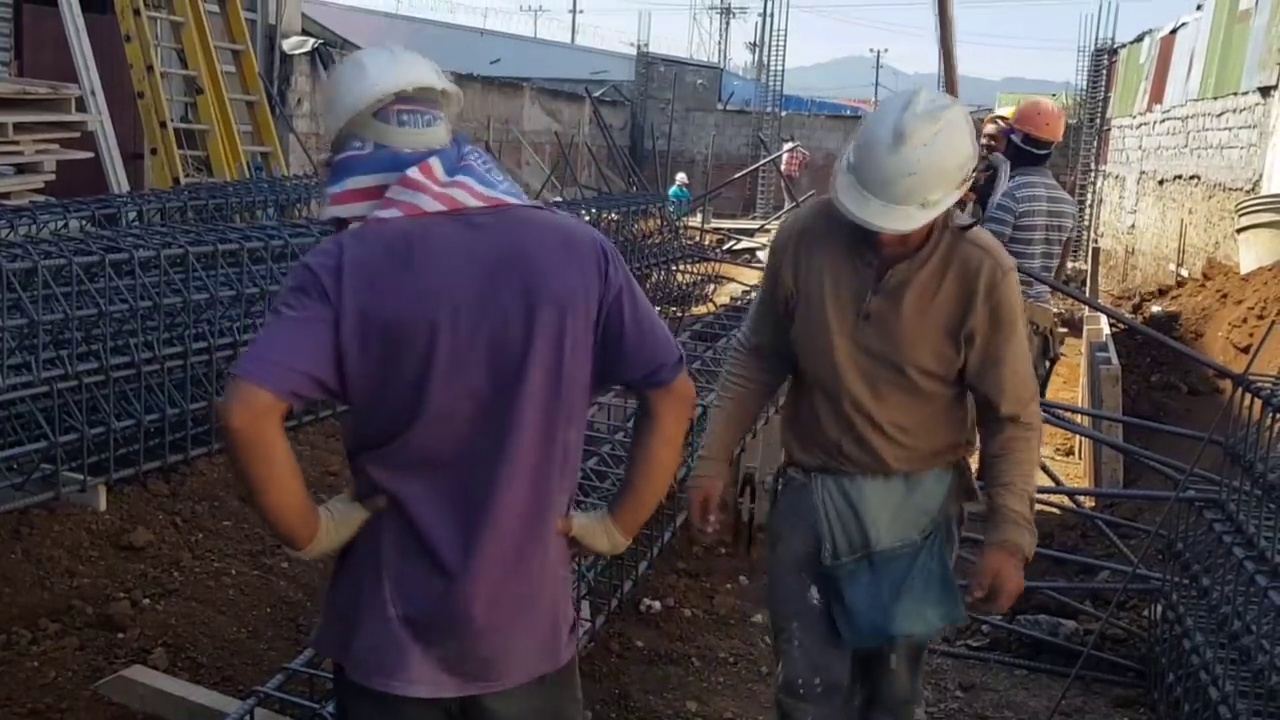helmet: (830, 82, 984, 235), (315, 44, 464, 158), (1005, 95, 1067, 145), (674, 173, 689, 184)
helmet-off: (779, 135, 795, 145)
helmet-on: (831, 84, 993, 266), (314, 40, 471, 204), (1003, 94, 1073, 171), (675, 171, 690, 190)
person: (220, 37, 694, 720), (685, 69, 1041, 710), (983, 93, 1083, 367), (776, 134, 819, 220), (669, 172, 690, 213)
